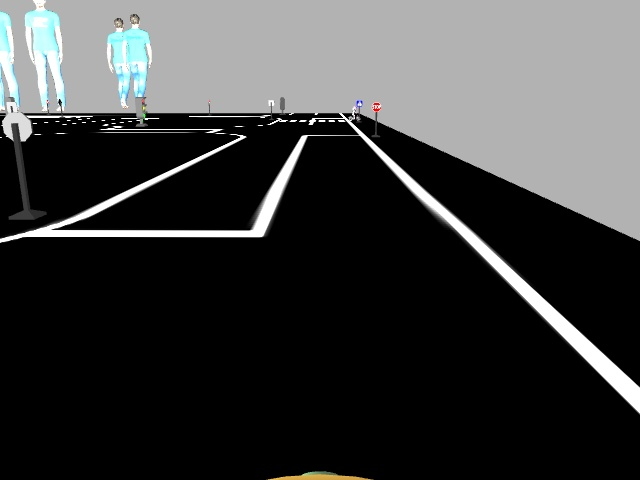Stop: (370, 101, 381, 111)
TrafficLight: (134, 95, 147, 119)
